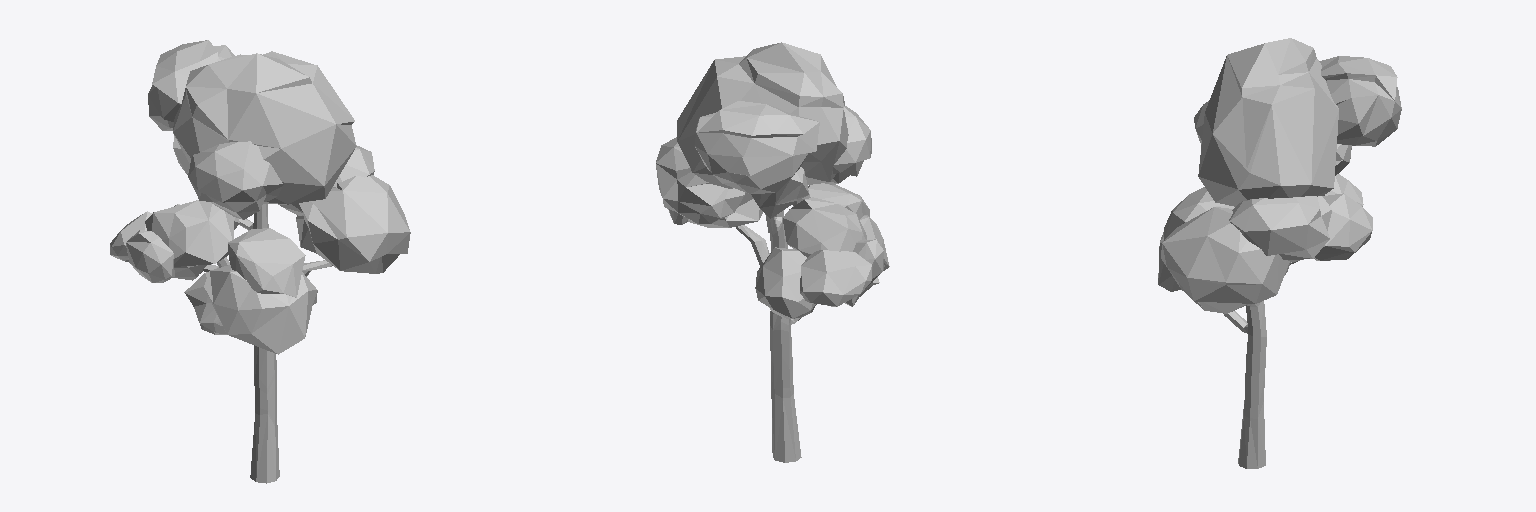
Rendered from btree1.obj.
The picture shows the model from 3 angles: view 1: azimuth 30°, elevation 25°; view 2: azimuth 150°, elevation 25°; view 3: azimuth 270°, elevation 25°; orthographic projection.
Visible parts, largest first — view 1: PP_Birch_Tree_05; view 2: PP_Birch_Tree_05; view 3: PP_Birch_Tree_05.
Part boxes in pixels (x1,y1,x2,y2): PP_Birch_Tree_05: (110, 40, 410, 483); PP_Birch_Tree_05: (656, 42, 889, 462); PP_Birch_Tree_05: (1158, 38, 1401, 468).
Bounding box in the file's own units: 4.99 × 8.25 × 4.34.